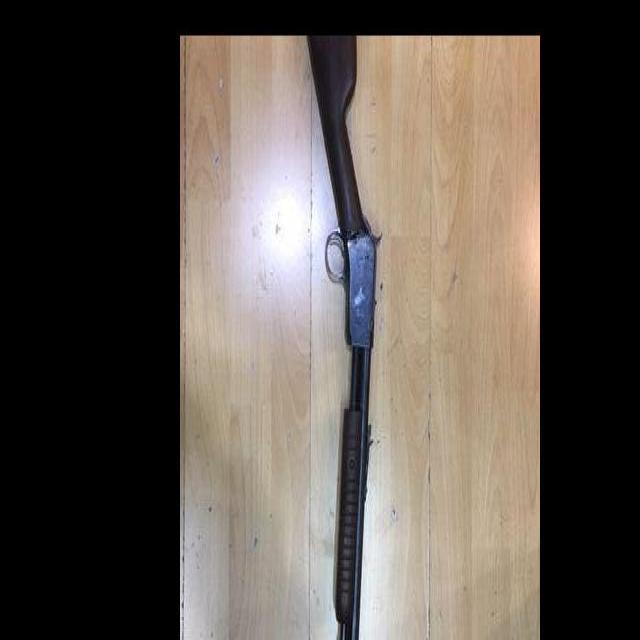weapon: (306, 34, 385, 640)
